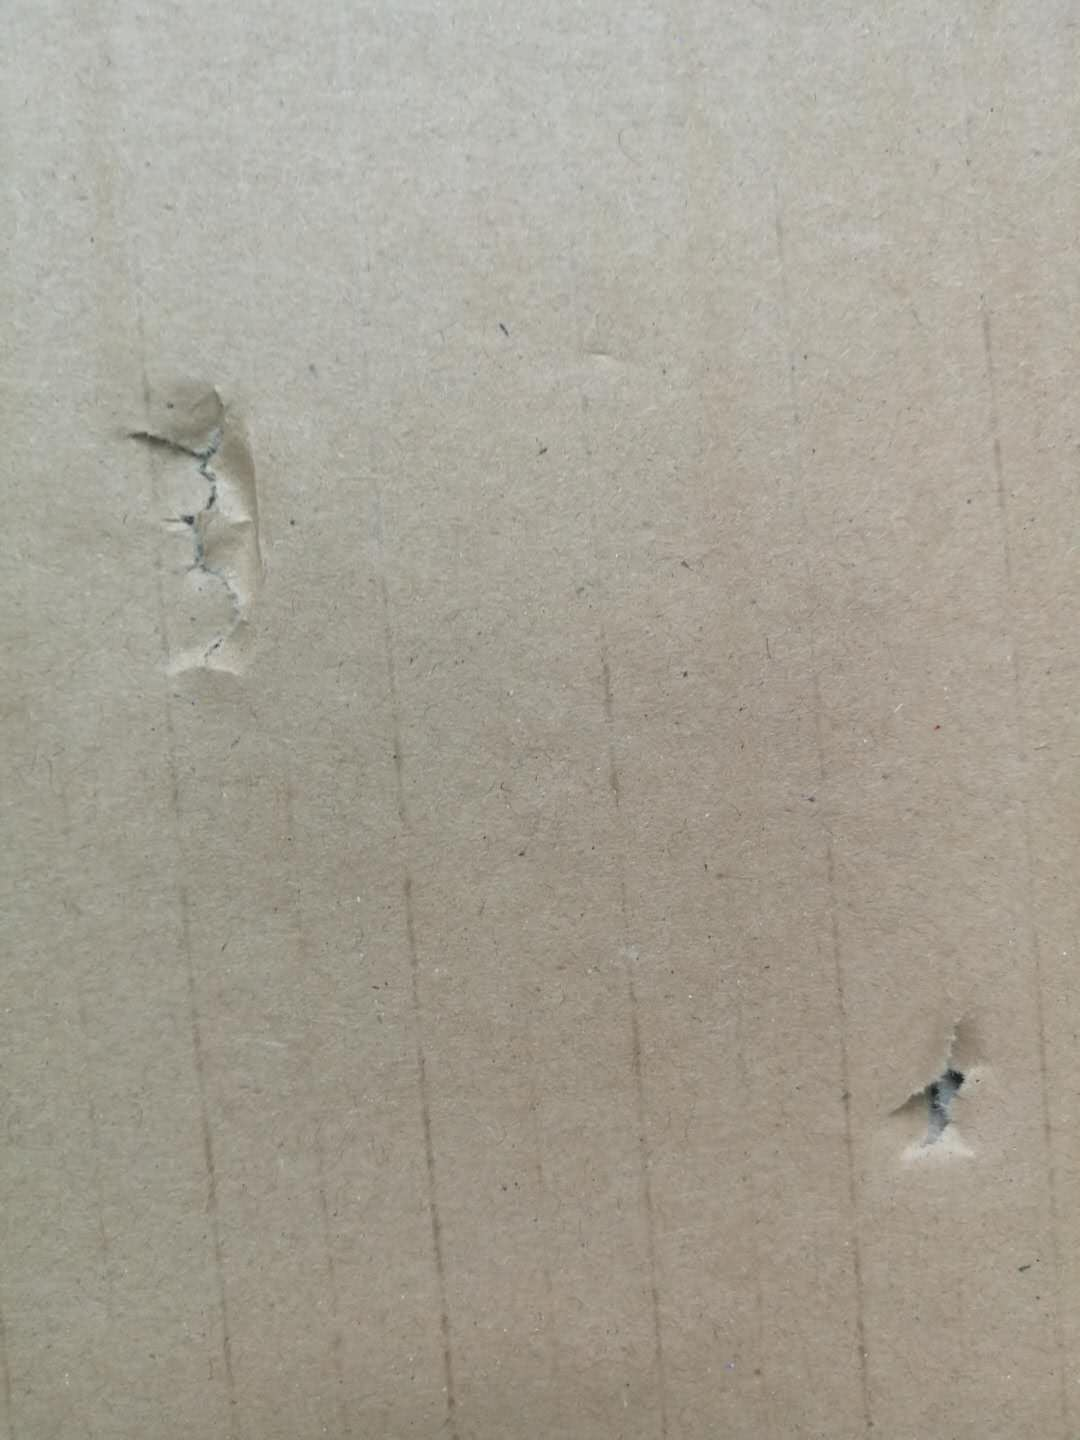defect: (98, 350, 323, 736), (868, 992, 1032, 1188)
